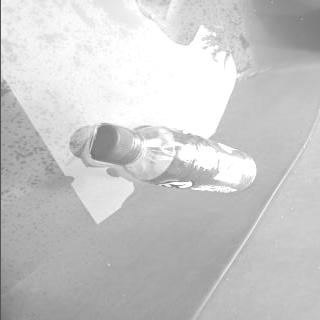bottle: (89, 122, 258, 194)
